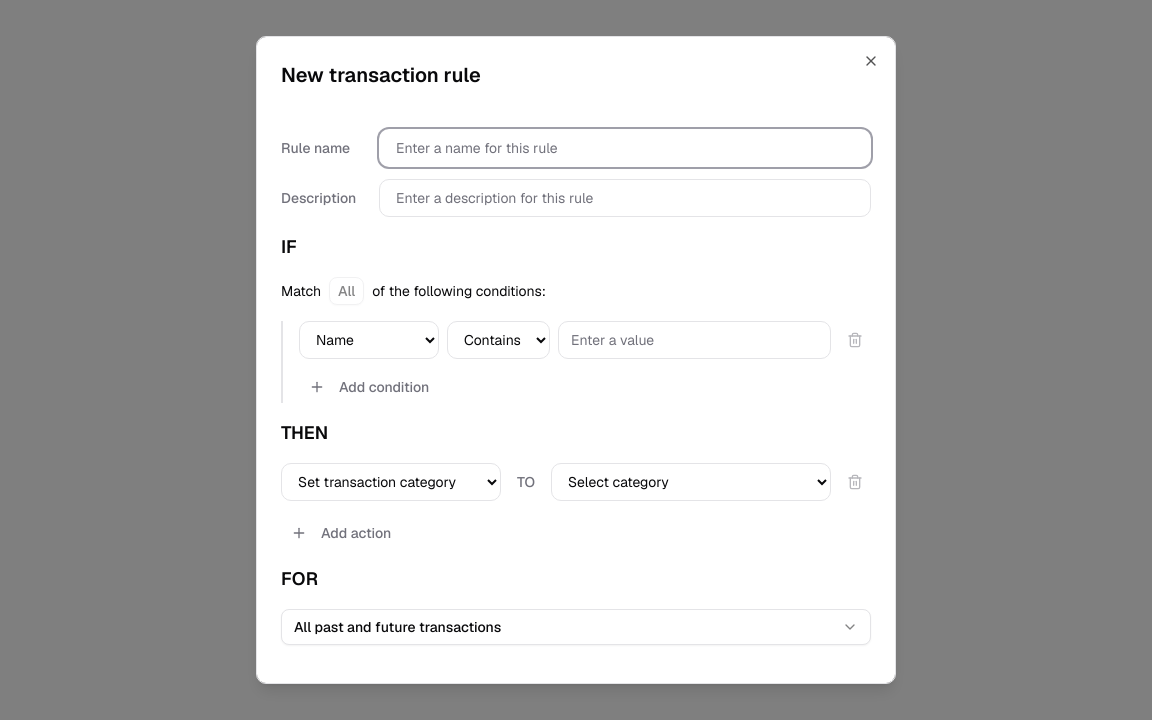
it: RuleModal › requires every condition value
The image size is (1152, 720).
Type "Coffee rule" into the field with placeholder "Enter a name for this rule" at {"x": 625, "y": 148}, box [379,129,871,167]
(page scrolled)
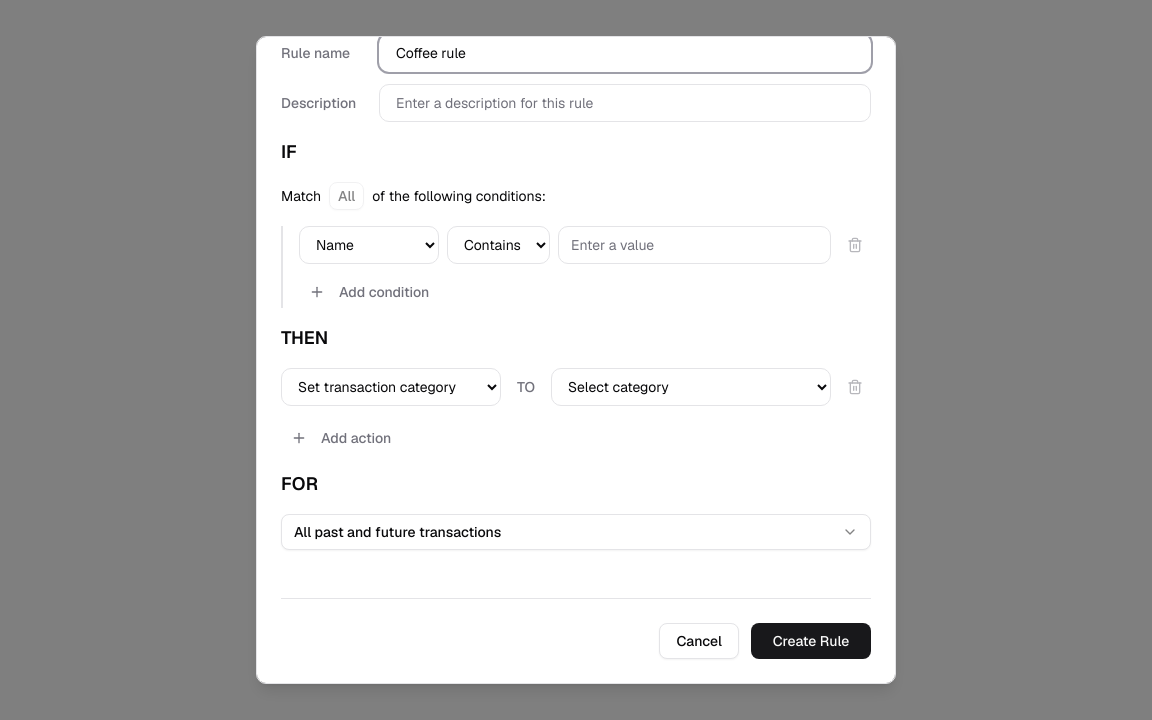
Click the button "Create Rule" at {"x": 811, "y": 641}, box [751,623,871,659]
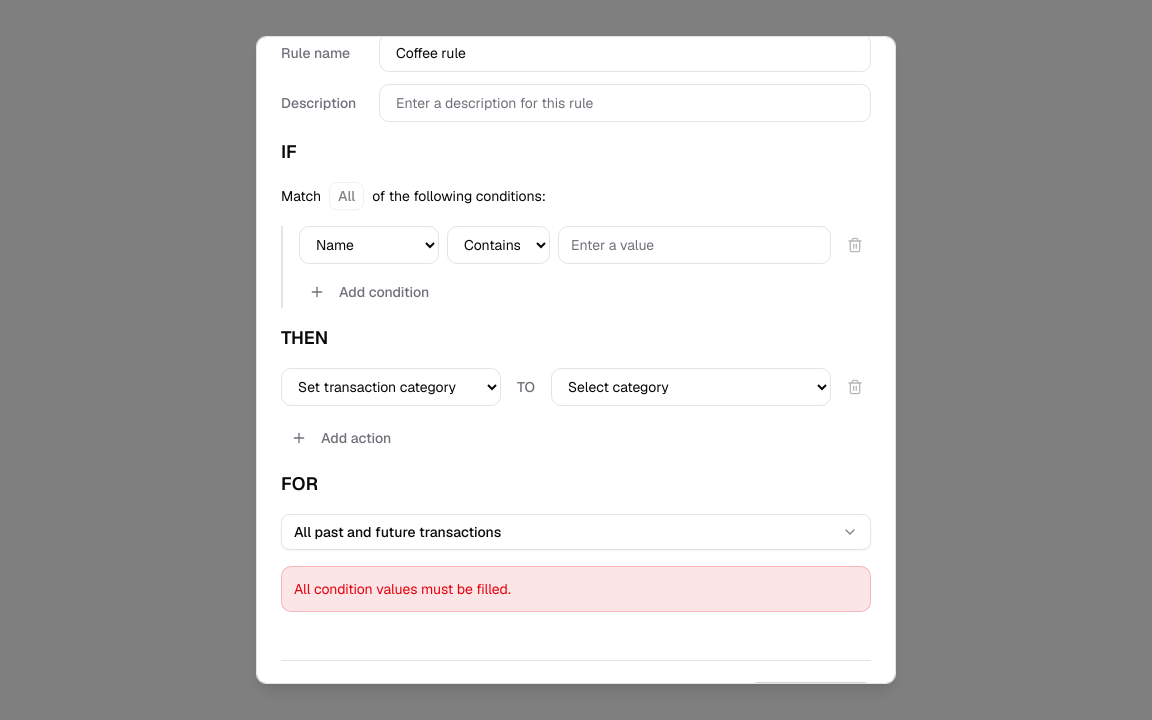
Check: the text "All condition values must be filled." is shown, box [281,566,871,612]
